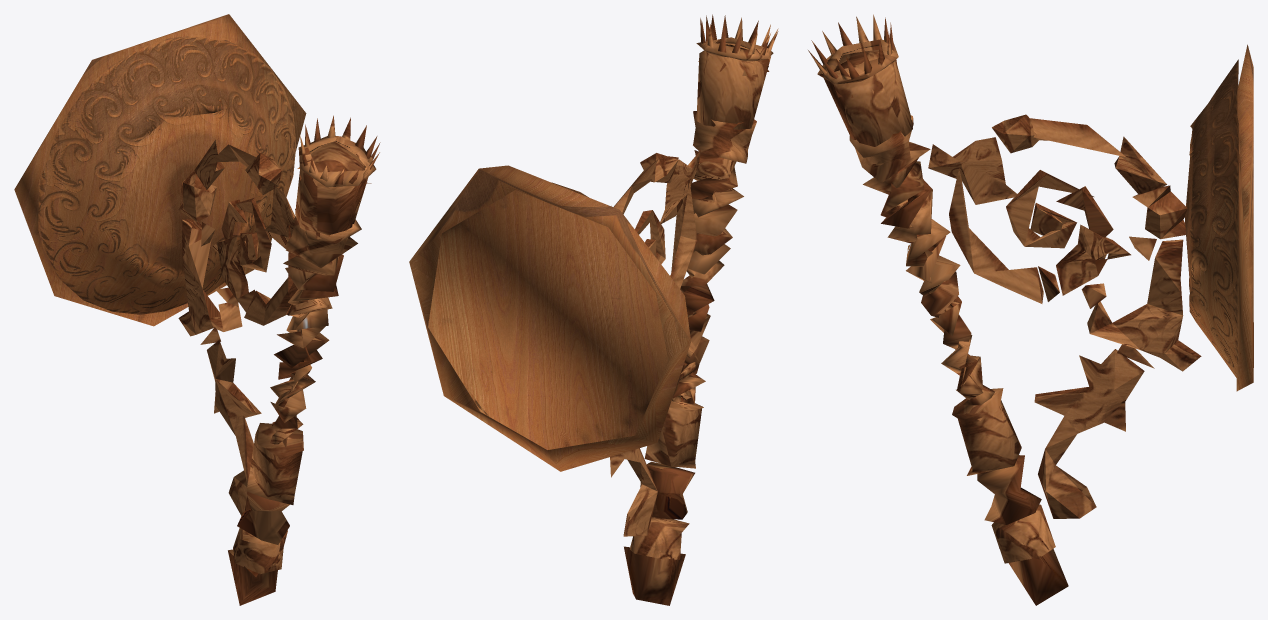
File: Antorcha3.obj
3 renders of one model, left to right at view 1: azimuth 30°, elevation 25°; view 2: azimuth 150°, elevation 25°; view 3: azimuth 270°, elevation 25°, orthographic. The views are drawn at different scales.
Visible parts, largest first — view 1: Mashal_MMM:Group63307.002; view 2: Mashal_MMM:Group63307.002; view 3: Mashal_MMM:Group63307.002.
Part boxes in pixels (x1,y1,x2,y2): Mashal_MMM:Group63307.002: (14,14,380,605); Mashal_MMM:Group63307.002: (409,14,778,605); Mashal_MMM:Group63307.002: (808,14,1253,605).
Size of the model in its own units: 0.9767 by 1.73 by 1.22.
3 materials, 3 textured.
